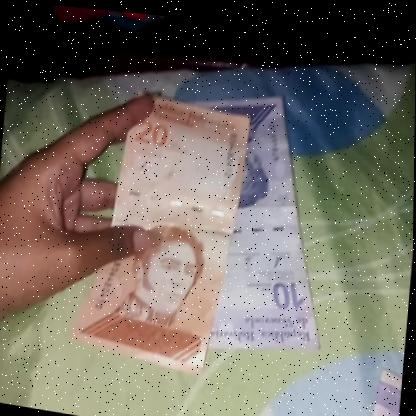twenty-front-vef: (68, 82, 251, 378)
